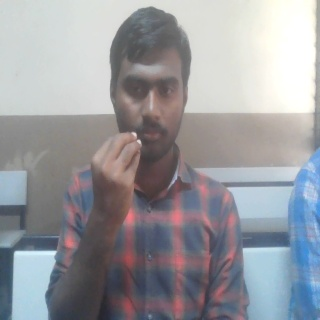Food: (88, 130, 143, 226)
